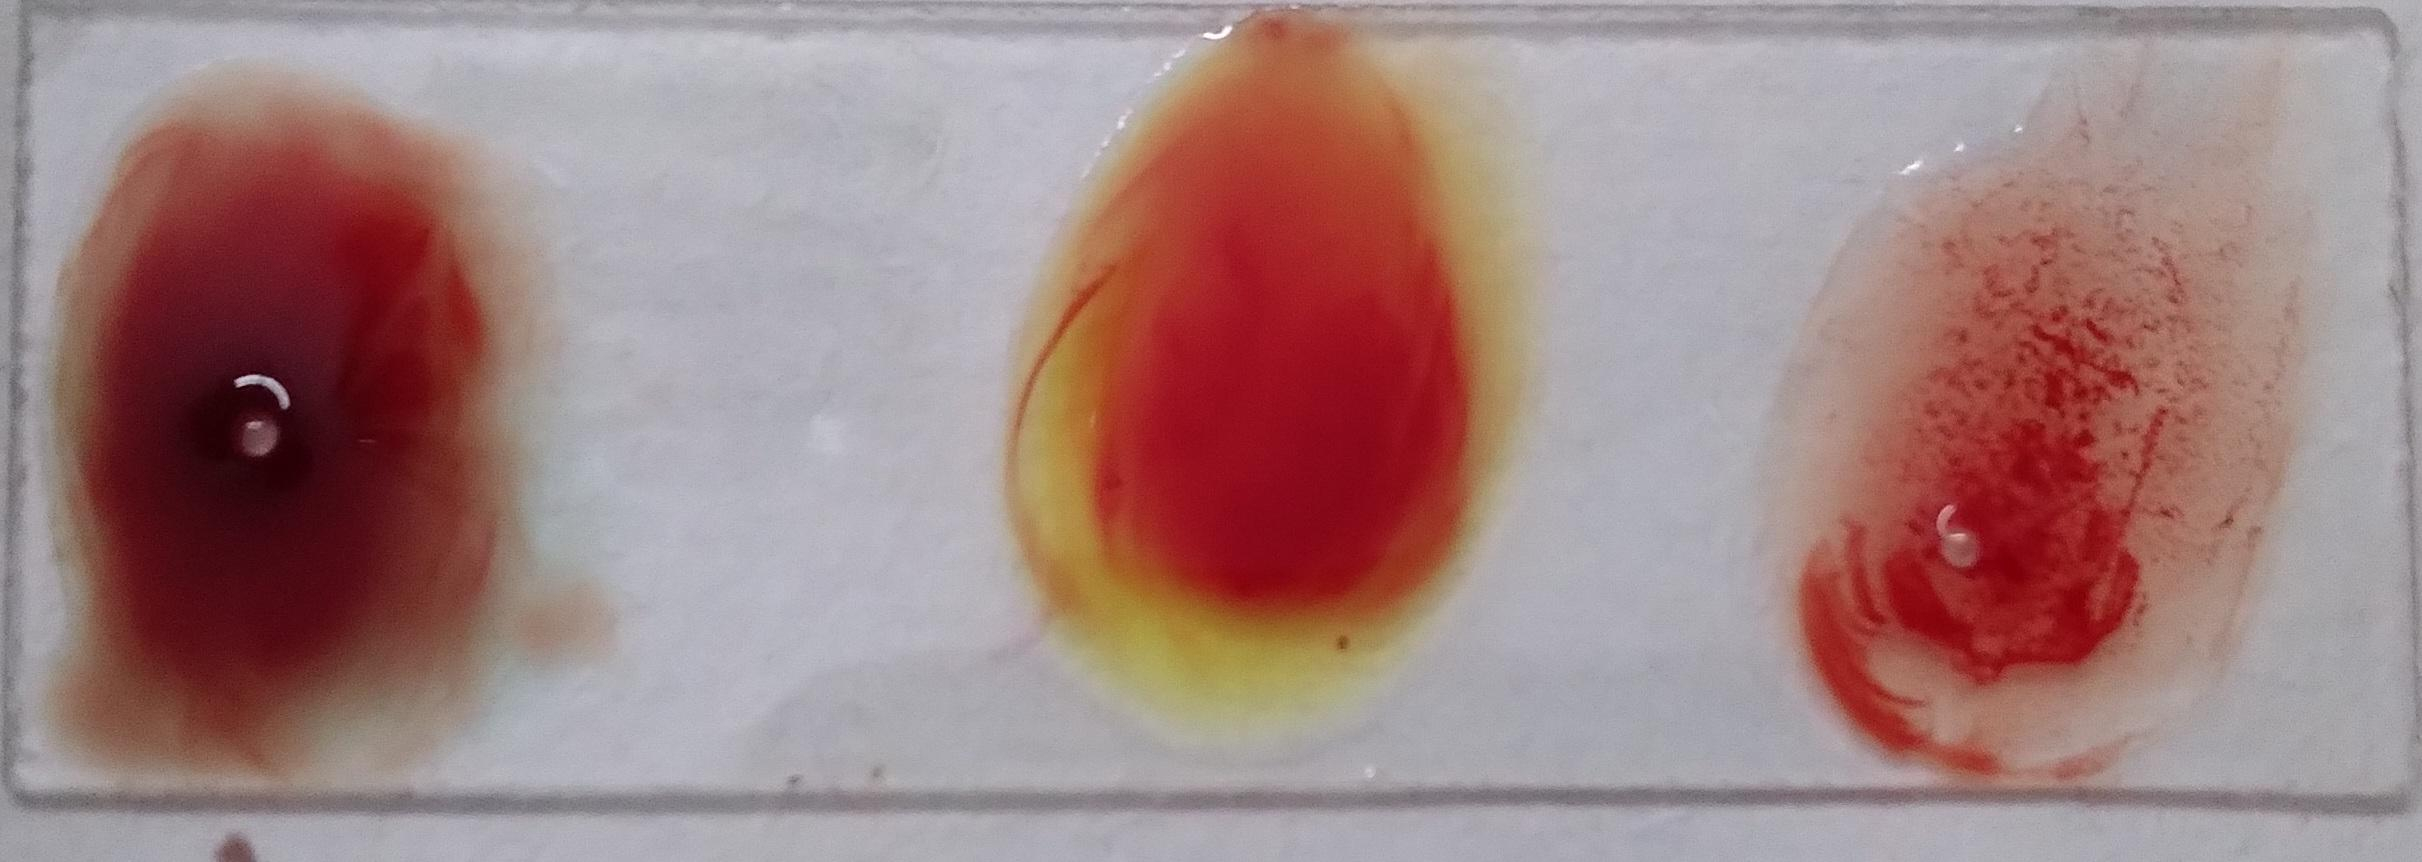D: (156, 88, 647, 711)
